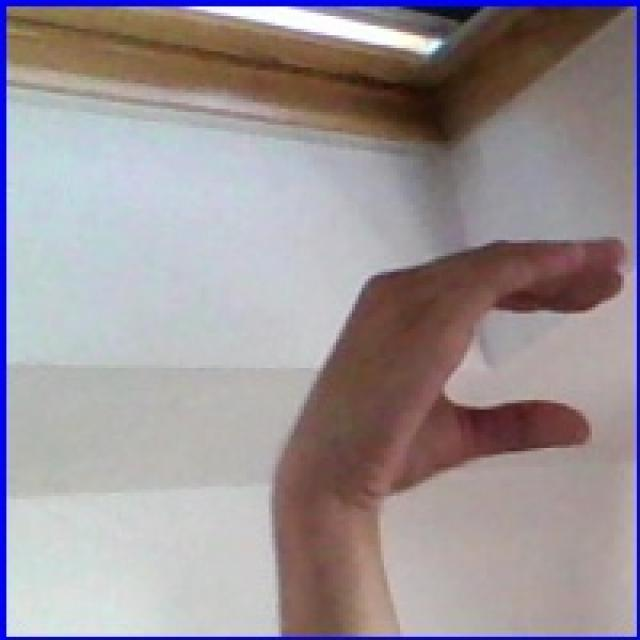Letra C: (250, 220, 629, 552)
